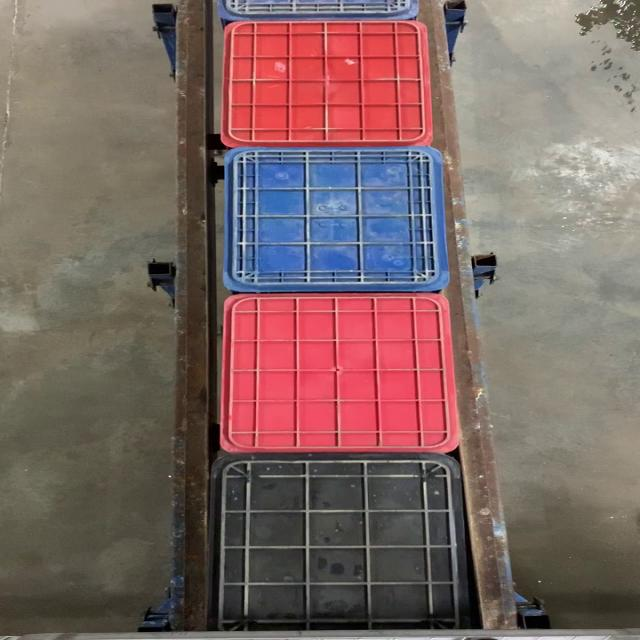Box: (216, 293, 462, 455), (222, 145, 452, 293), (218, 18, 436, 146)
